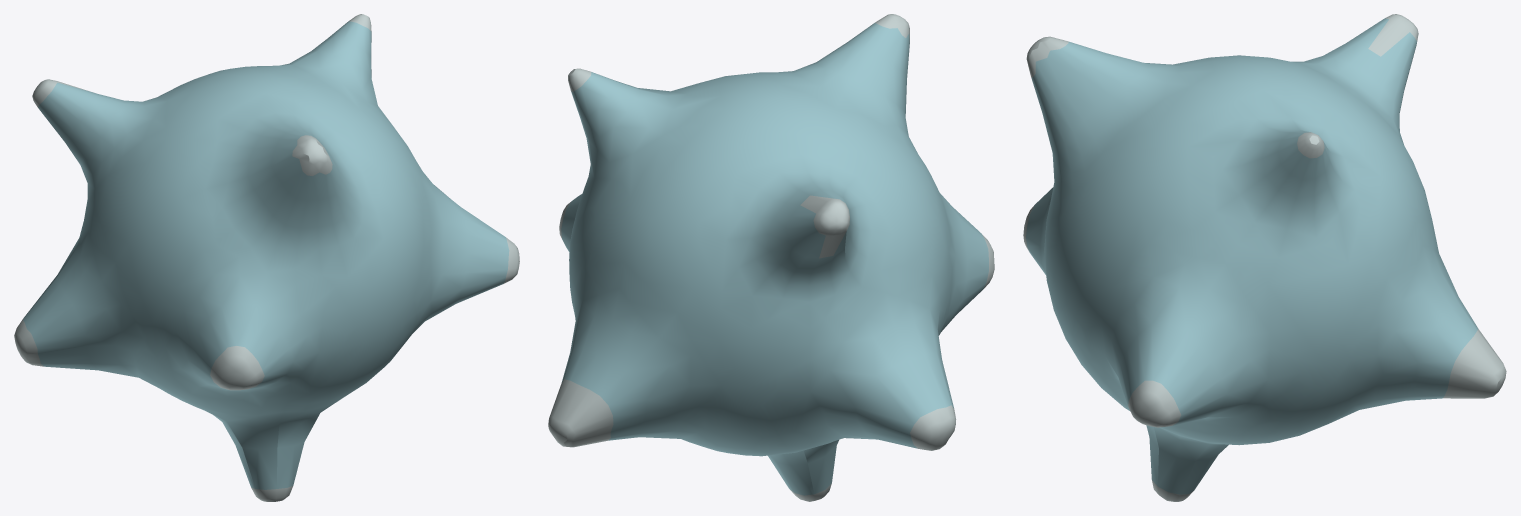
Rendered from Planet_4.gltf.
3 views of the same model, side by side, from view 1: azimuth 30°, elevation 25°; view 2: azimuth 150°, elevation 25°; view 3: azimuth 270°, elevation 25° (orthographic). The views are drawn at different scales.
Visible parts, largest first — view 1: Planet_4; view 2: Planet_4; view 3: Planet_4.
Boxes of the visible parts, x1=… form: Planet_4: x1=14, y1=14, x2=519, y2=501; Planet_4: x1=548, y1=14, x2=994, y2=501; Planet_4: x1=1023, y1=14, x2=1506, y2=501.
Size of the model in its own units: 4.49 by 4.09 by 3.96.
Materials: 1 (1 with a texture image).
